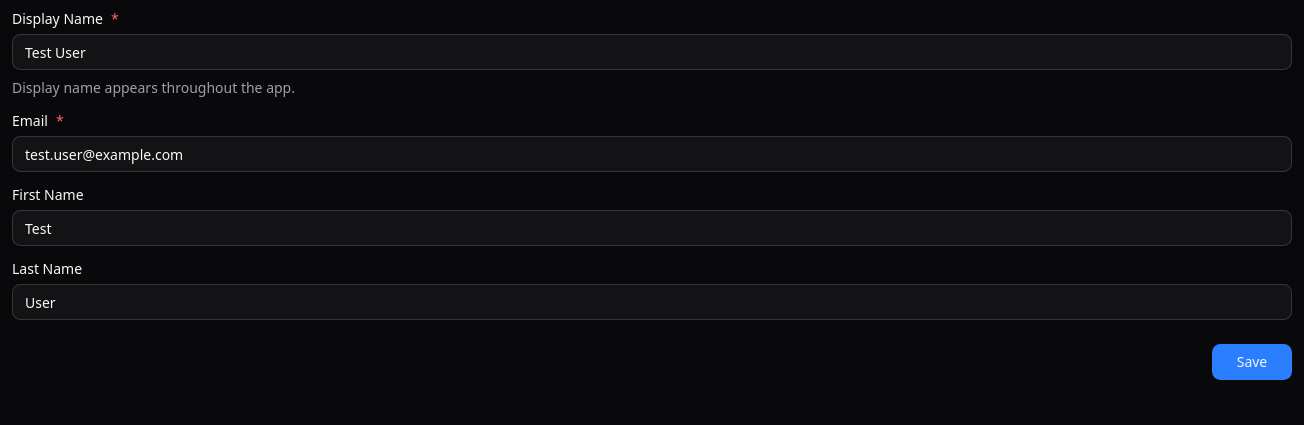
Test: AccountForm › rejects malformed email addresses
Replace the text in the field labelled "Email" with "not-an-email". click: (652,154)
box: [12,136,1292,172]
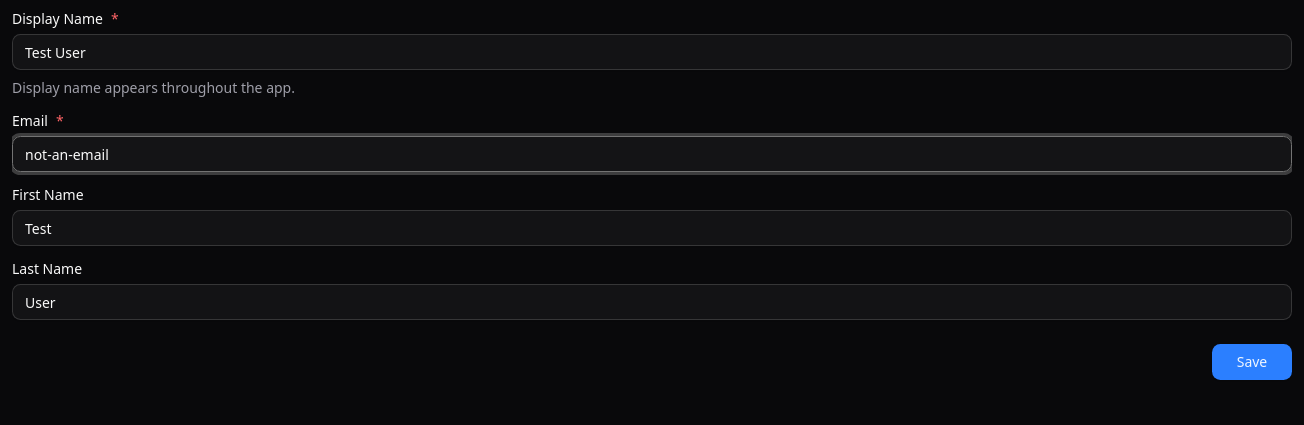
Press Tab
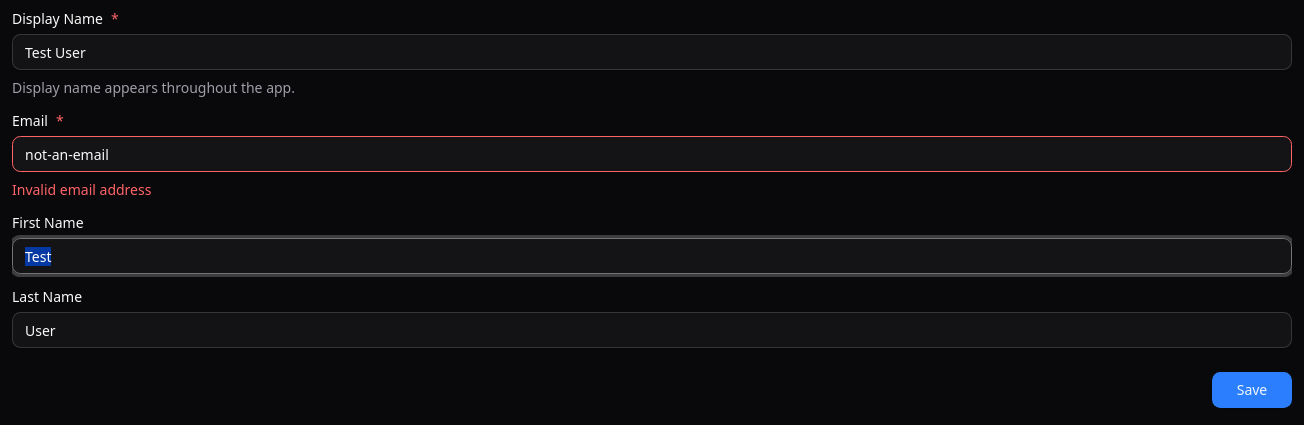
Now the text "Invalid email address" is shown, box [12,180,151,199]
